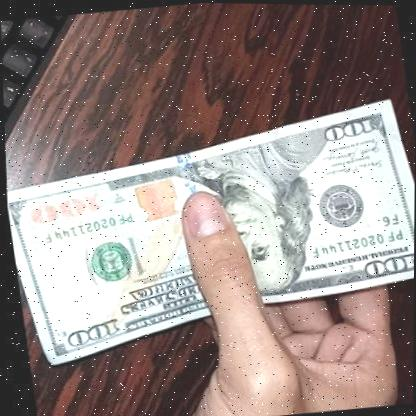one_hundred-front: (1, 92, 415, 368)
